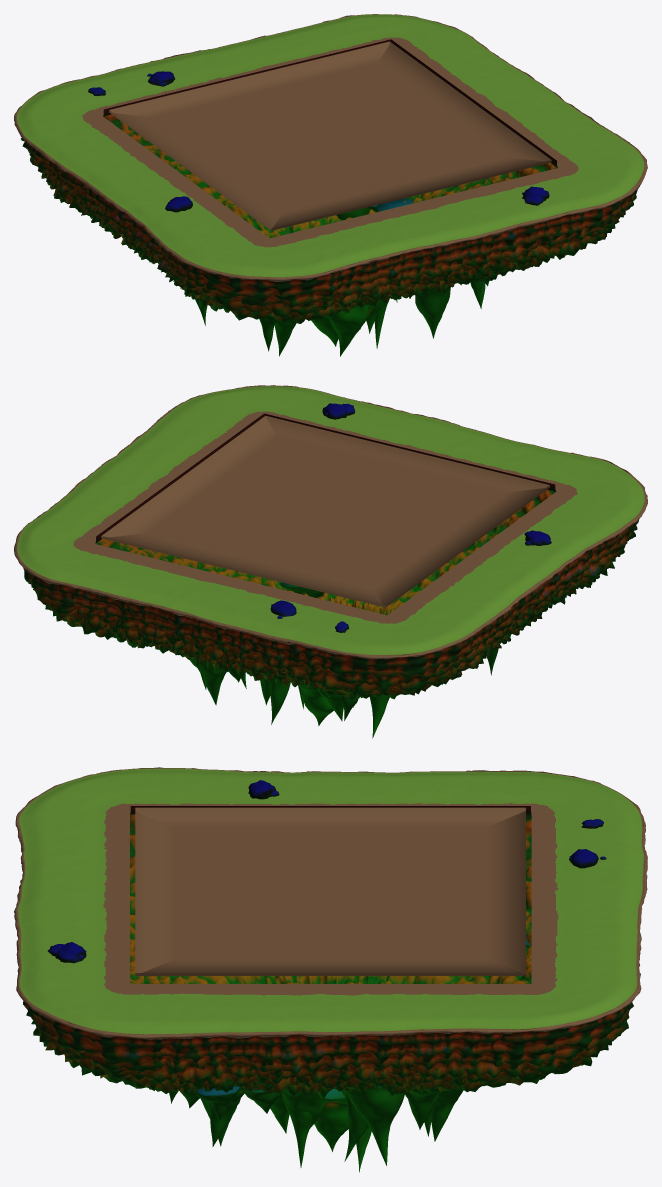
File: SM_Island.glb
3 renders of one model, top to bottom at view 1: azimuth 30°, elevation 25°; view 2: azimuth 150°, elevation 25°; view 3: azimuth 270°, elevation 25°, orthographic. The views are drawn at different scales.
Parts seen in each view (by area): view 1: SM_Island; view 2: SM_Island; view 3: SM_Island.
Boxes of the visible parts, left/top/right/bottom form: SM_Island: left=14, top=14, right=647, bottom=356; SM_Island: left=14, top=385, right=647, bottom=738; SM_Island: left=14, top=767, right=647, bottom=1172.
Size of the model in its own units: 78.28 by 35.48 by 77.89.
